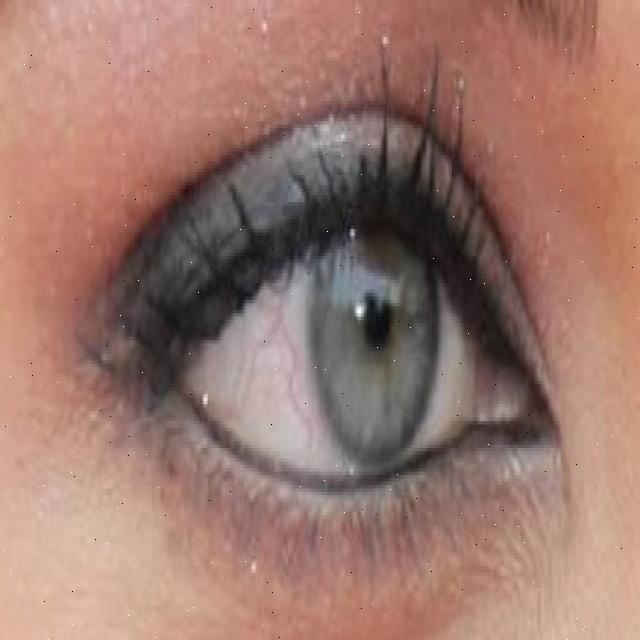Normal: (310, 173, 438, 472)
